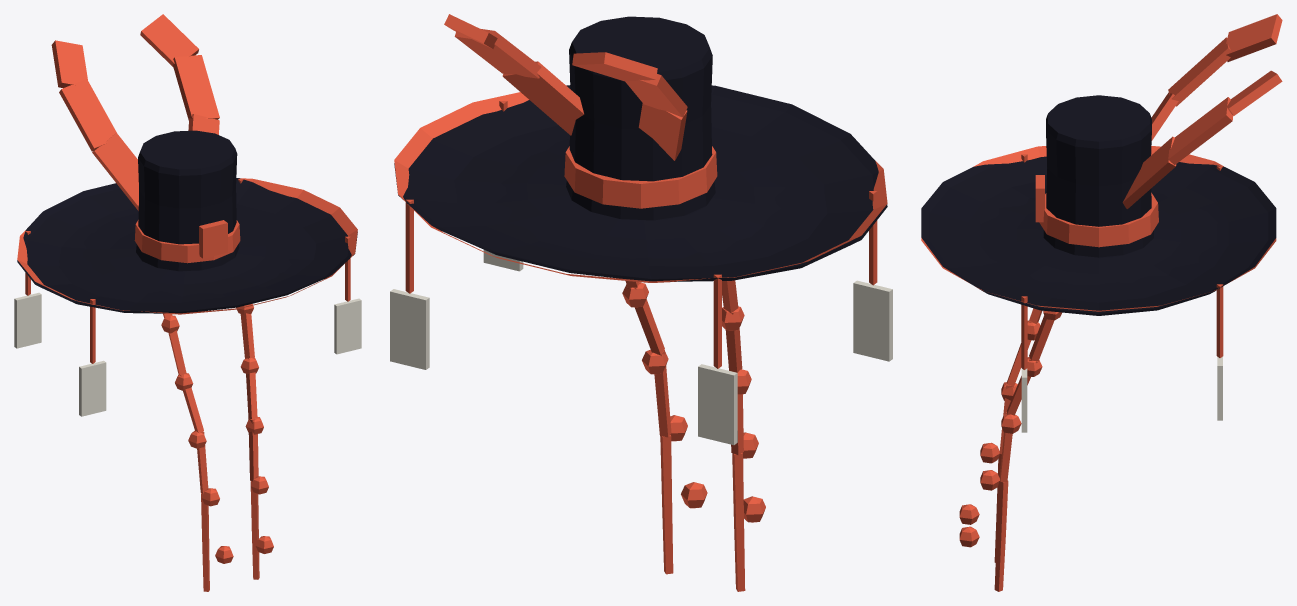
Rendered from gear_gat_t4.glb.
3 renders of one model, left to right at view 1: azimuth 30°, elevation 25°; view 2: azimuth 150°, elevation 25°; view 3: azimuth 270°, elevation 25°, orthographic. The views are drawn at different scales.
Parts seen in each view (by area): view 1: gear_gat_t4; view 2: gear_gat_t4; view 3: gear_gat_t4.
Part boxes in pixels (x1,y1,x2,y2): gear_gat_t4: [14, 14, 361, 591]; gear_gat_t4: [390, 14, 892, 591]; gear_gat_t4: [921, 14, 1282, 591].
Size of the model in its own units: 0.86 by 1.26 by 0.7753.
